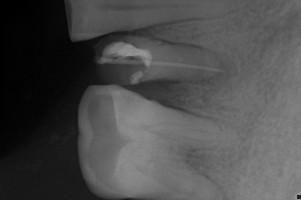Furcation Involvement: (200, 49, 238, 86)
